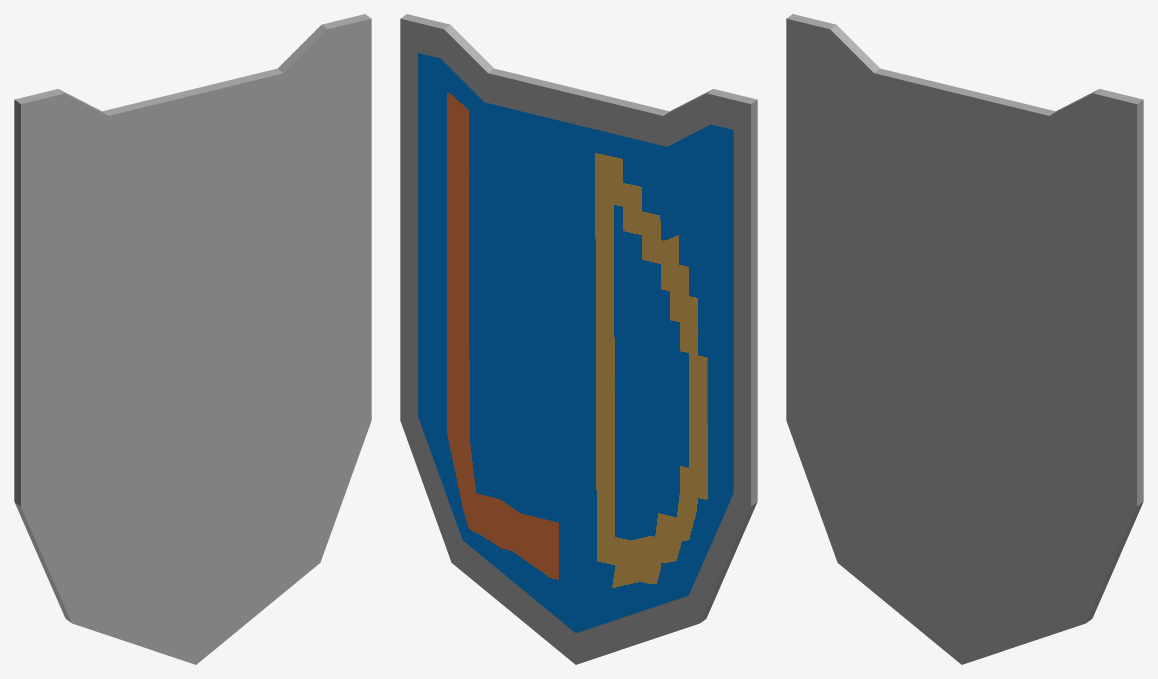
The model's file is shield.fbx.
3 renders of one model, left to right at view 1: azimuth 30°, elevation 25°; view 2: azimuth 150°, elevation 25°; view 3: azimuth 330°, elevation 25°, orthographic.
Parts seen in each view (by area): view 1: Cube; view 2: Cube; view 3: Cube.
Boxes of the visible parts, bbox=[...] form: Cube: bbox=[14, 14, 371, 664]; Cube: bbox=[400, 14, 757, 664]; Cube: bbox=[786, 14, 1143, 664].
Bounding box in the file's own units: 60.8 × 100 × 1.91.
